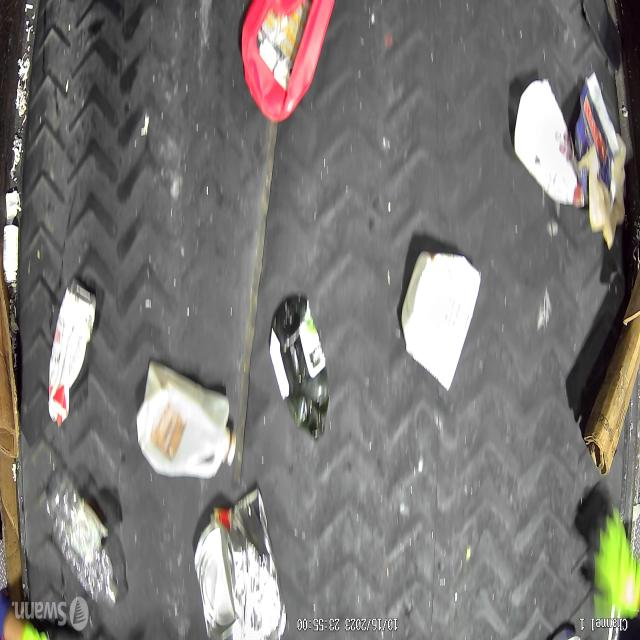can: (193, 518, 263, 640)
milk_jug: (136, 363, 238, 482)
non_white_jug: (237, 0, 330, 126), (48, 278, 96, 426)
plastic_bottle: (49, 480, 120, 606)
